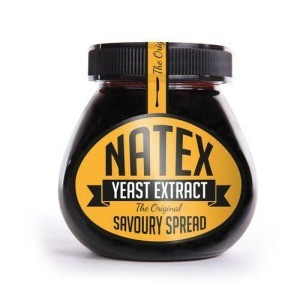yeast spread_brain food: (55, 82, 252, 226)
